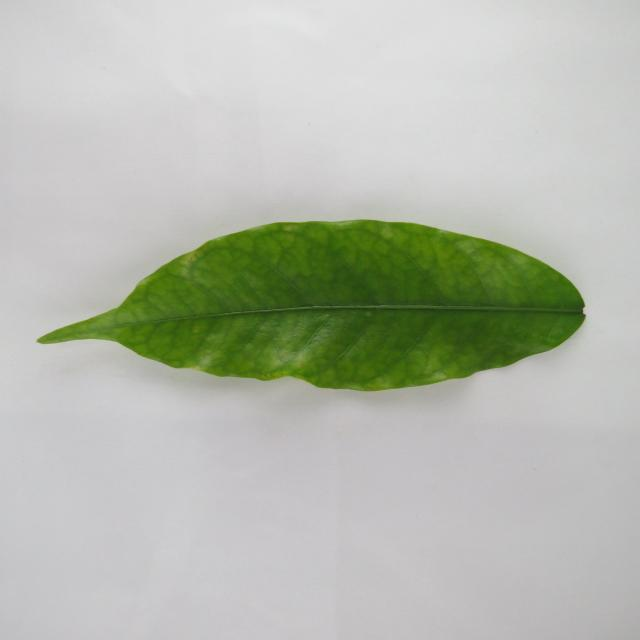DeficienciaNutricional-Manganeso: (38, 220, 585, 391)
